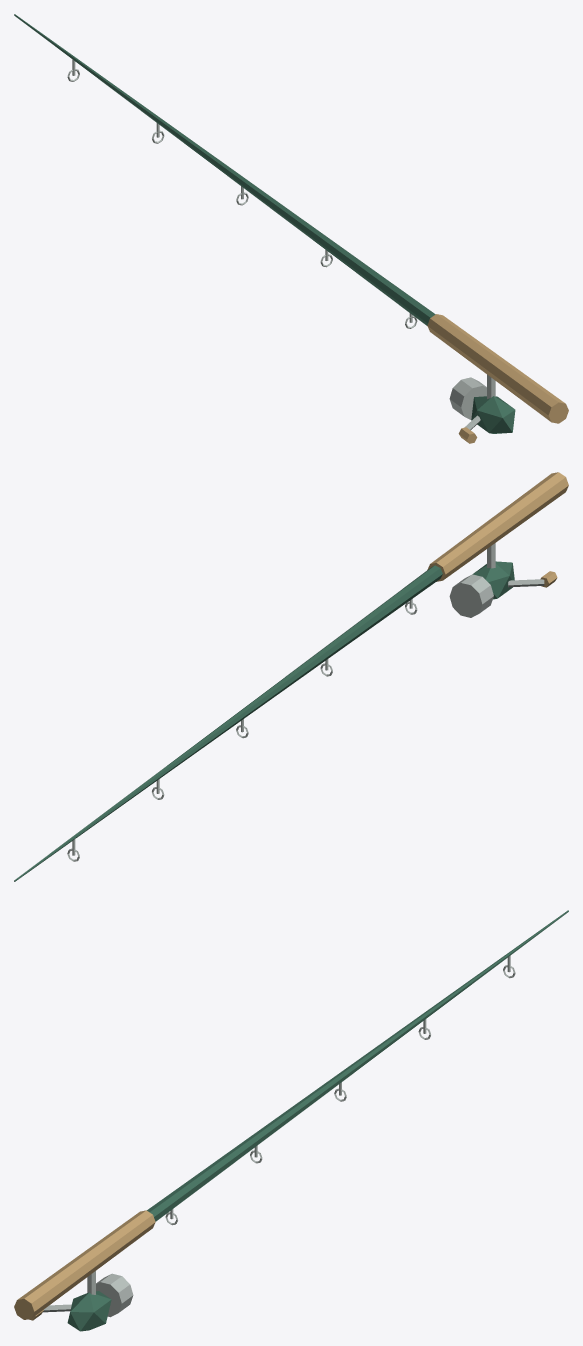
Rendered from FishingRod.fbx.
3 renders of one model, top to bottom at view 1: azimuth 30°, elevation 25°; view 2: azimuth 150°, elevation 25°; view 3: azimuth 330°, elevation 25°, orthographic.
Parts seen in each view (by area): view 1: Handle, Blank0, SpinningReel, Blank1, Spool, Blank2, Blank3; view 2: Handle, Blank0, Spool, Blank1, Blank2, SpinningReel, Blank3; view 3: Handle, Blank0, SpinningReel, Blank1, Spool, Blank2, Blank3.
Boxes of the visible parts, x1,y1,x2,y2 form: Handle: (427,314,568,423); Blank0: (347,256,435,325); SpinningReel: (471,396,515,433); Blank1: (263,195,355,266); Spool: (449,377,486,419); Blank2: (180,135,268,203); Blank3: (97,74,183,140); Handle: (427,472,568,581); Blank0: (348,565,442,638); Spool: (449,574,493,617); Blank1: (266,628,357,699); Blank2: (182,691,271,759); SpinningReel: (472,561,514,599); Blank3: (98,754,186,820); Handle: (14,1210,155,1319); Blank0: (147,1153,235,1221); SpinningReel: (67,1291,111,1331); Blank1: (228,1092,318,1161); Spool: (96,1273,133,1317); Blank2: (313,1031,402,1098); Blank3: (398,971,485,1036).
Bounding box in the file's own units: 0.169 × 0.208 × 2.58.
